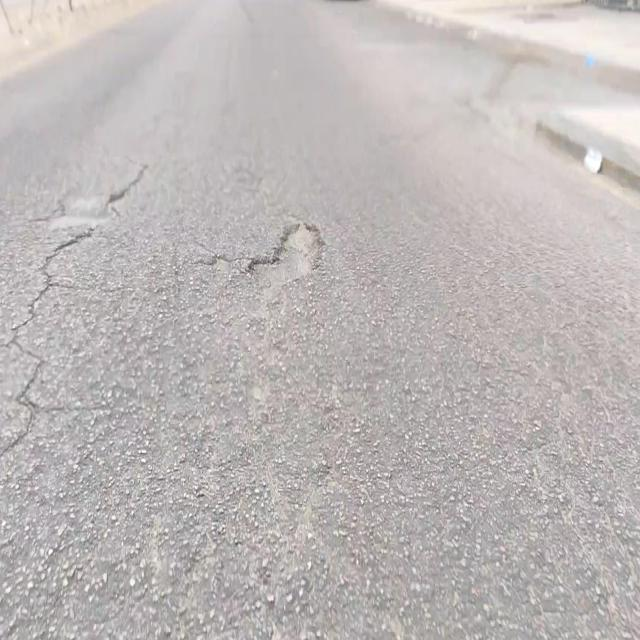Potholes: (245, 216, 327, 294)
